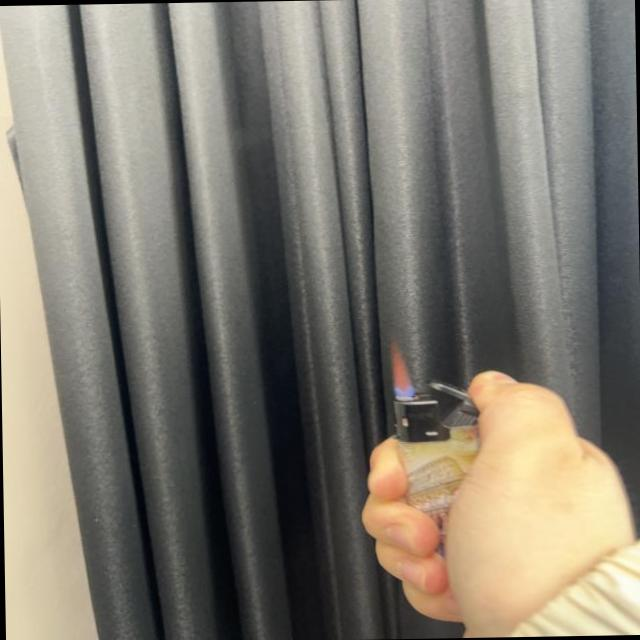Fire: (390, 334, 416, 398)
